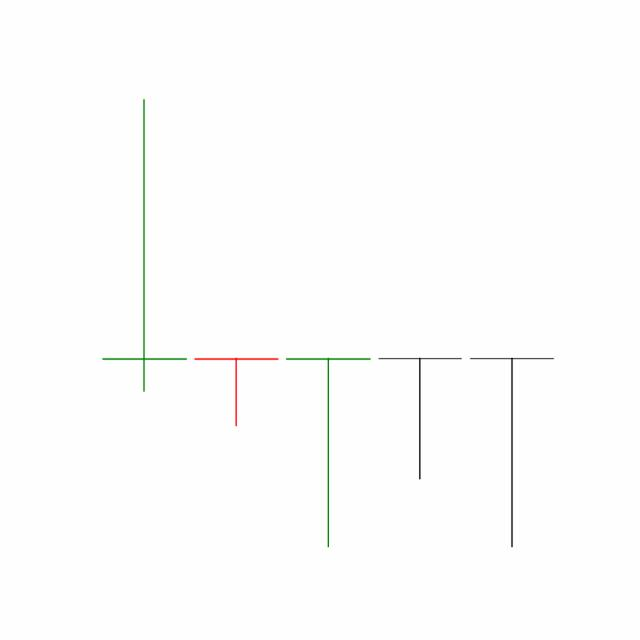Dragonfly Doji: (464, 355, 558, 550)
